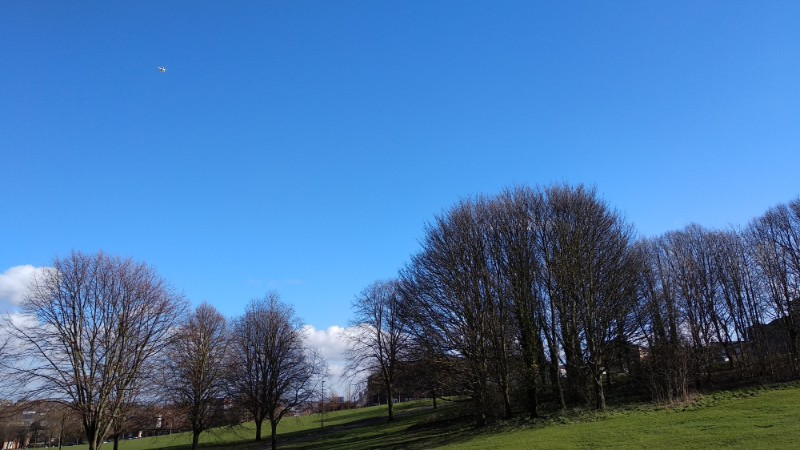drone: (154, 64, 169, 75)
